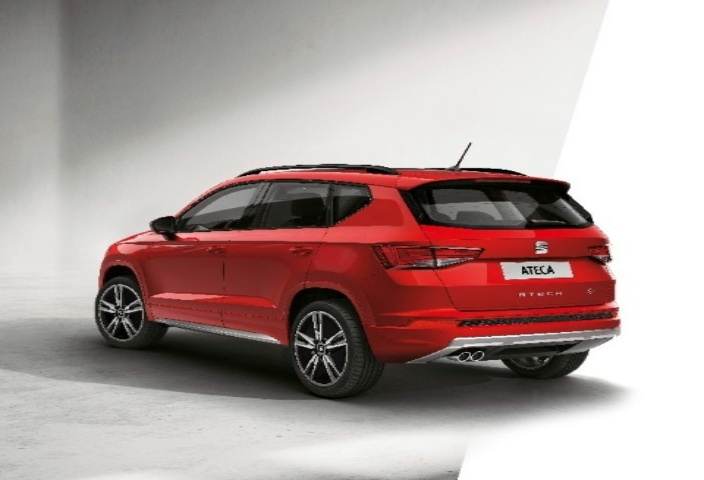camper: (76, 157, 621, 404)
